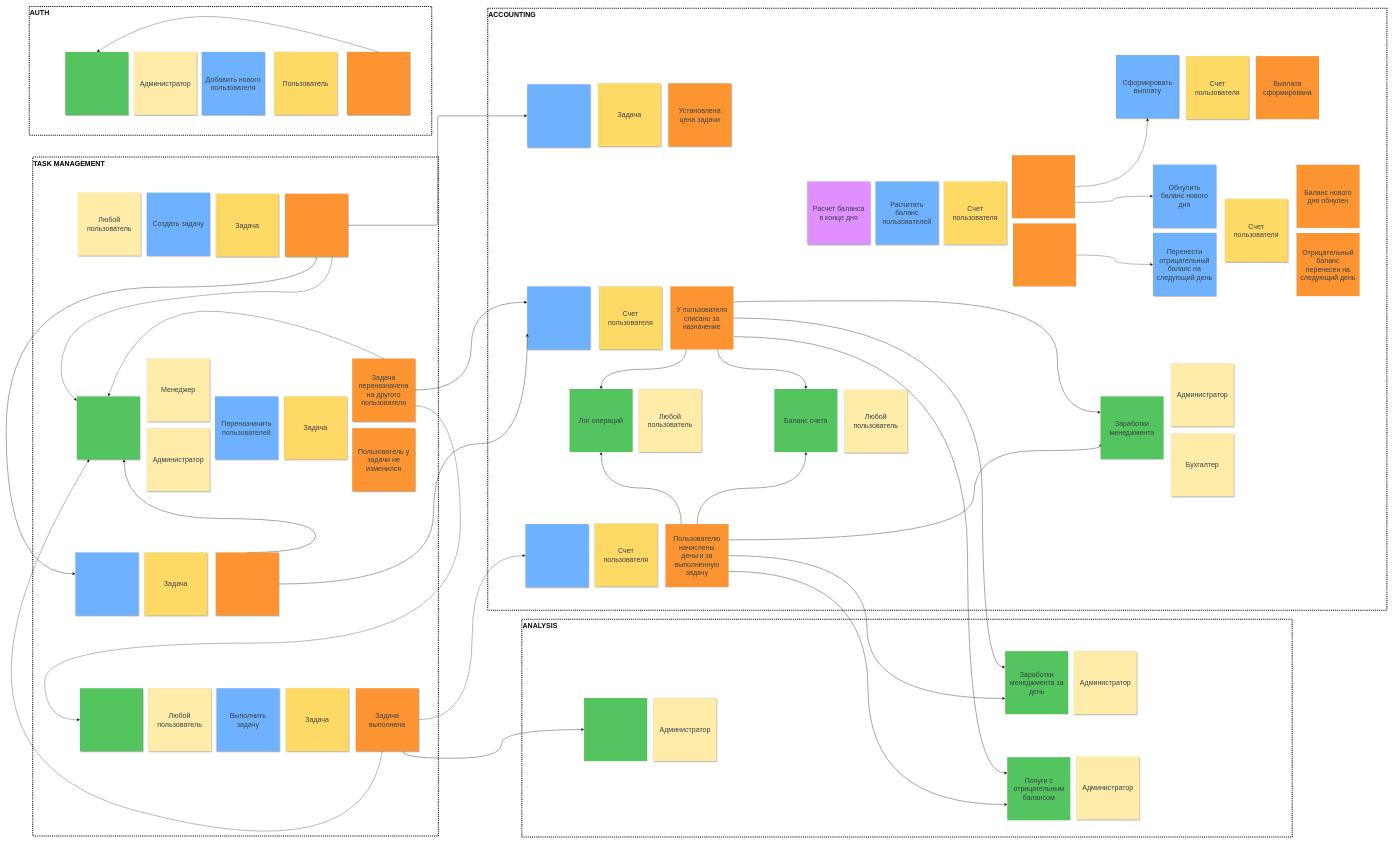
Some shapes in this 1393 by 844 pixel diagram are drawn without their labels. The shapes that lost their labels are listed below. From the top down, each one's centre as x and y in pixels, then its label:
(97,83): Список пользователей
(378,83): Добавлен новый пользователь
(559,116): Назначить цену задачи
(1043,186): Получен положительный баланс
(317,225): Задача создана
(1044,254): Получен отрицательный баланс
(559,318): Списать деньги у пользователя
(108,428): Невыполненные задачи
(557,556): Начислить деньги за выполненую задачу
(107,584): Назначить пользователя
(247,584): Задача назначена на пользователя
(111,720): Назначенные задачи
(615,729): Задача с максимальной ценой за неделю
